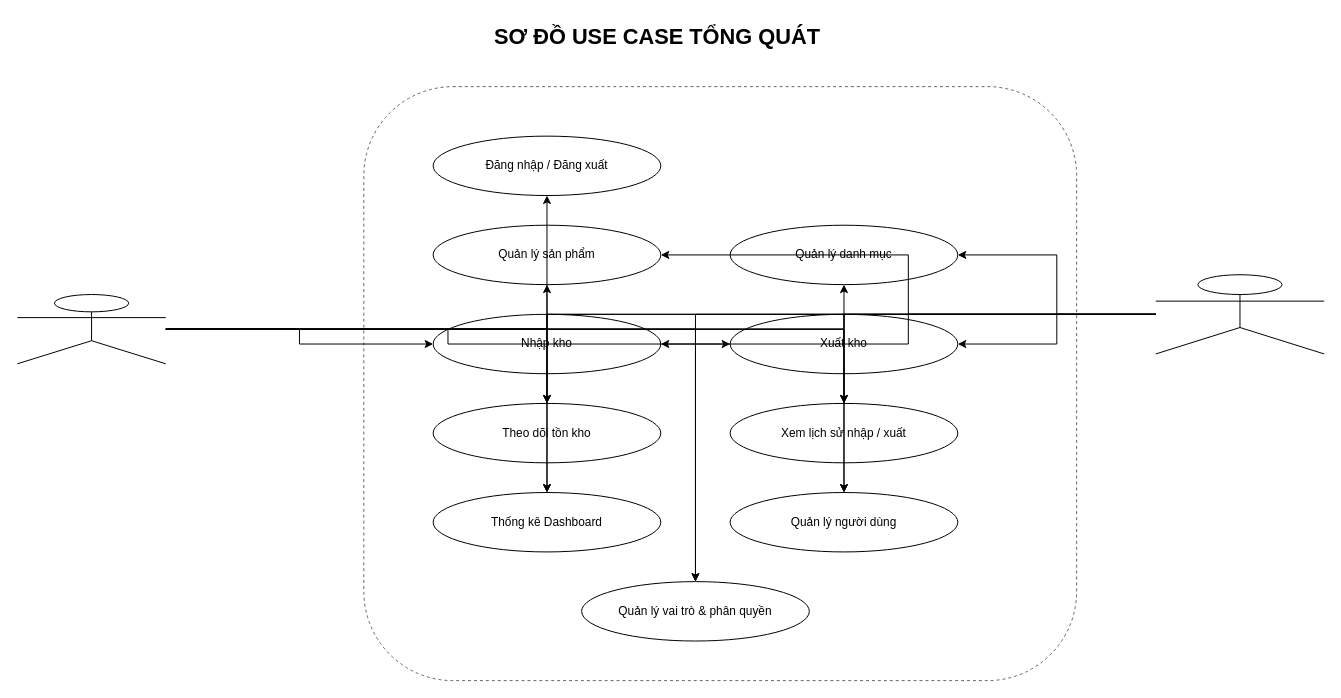
This 1341x698 diagram has some shape labels left out. Here are the shapes that lost their labels. From the top down, the box of each, then its label:
(16, 294, 166, 364): Người dùng
(1155, 274, 1324, 354): Quản trị viên / Người quản lý
(363, 86, 1077, 681): HỆ THỐNG QUẢN LÝ KHO
